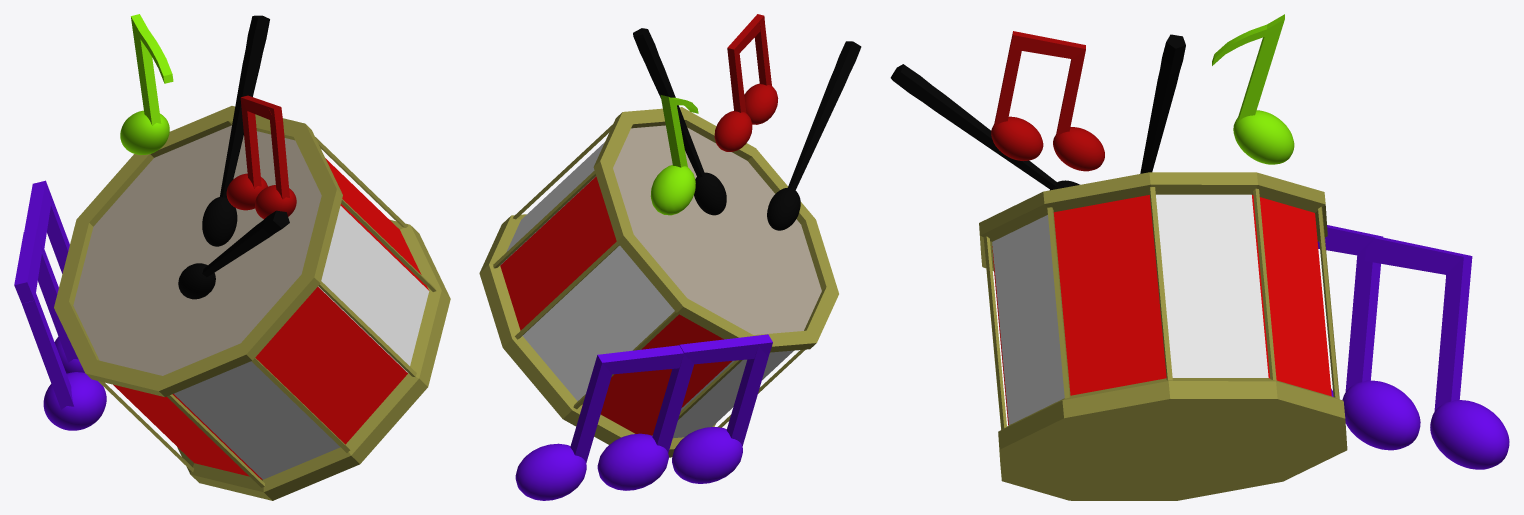
Rendered from CollectObjectDrum.fbx.
The picture shows the model from 3 angles, left to right: view 1: azimuth 30°, elevation 25°; view 2: azimuth 150°, elevation 25°; view 3: azimuth 270°, elevation 25°; orthographic projection. The views are drawn at different scales.
Parts seen in each view (by area): view 1: pSphere25; view 2: pSphere25; view 3: pSphere25.
Part boxes in pixels (x1=…): pSphere25: x1=14, y1=14, x2=450, y2=500; pSphere25: x1=479, y1=14, x2=861, y2=500; pSphere25: x1=890, y1=14, x2=1509, y2=500.
Size of the model in its own units: 1.61 by 1.99 by 2.25.
